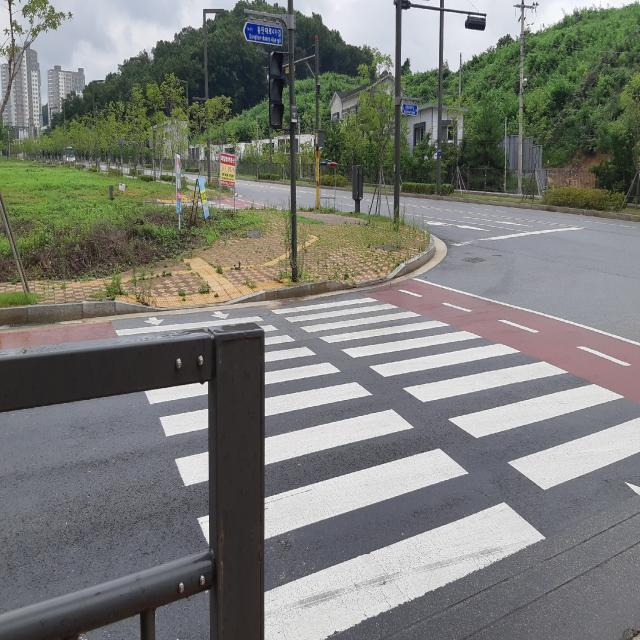횡단보도: (116, 294, 640, 640)
